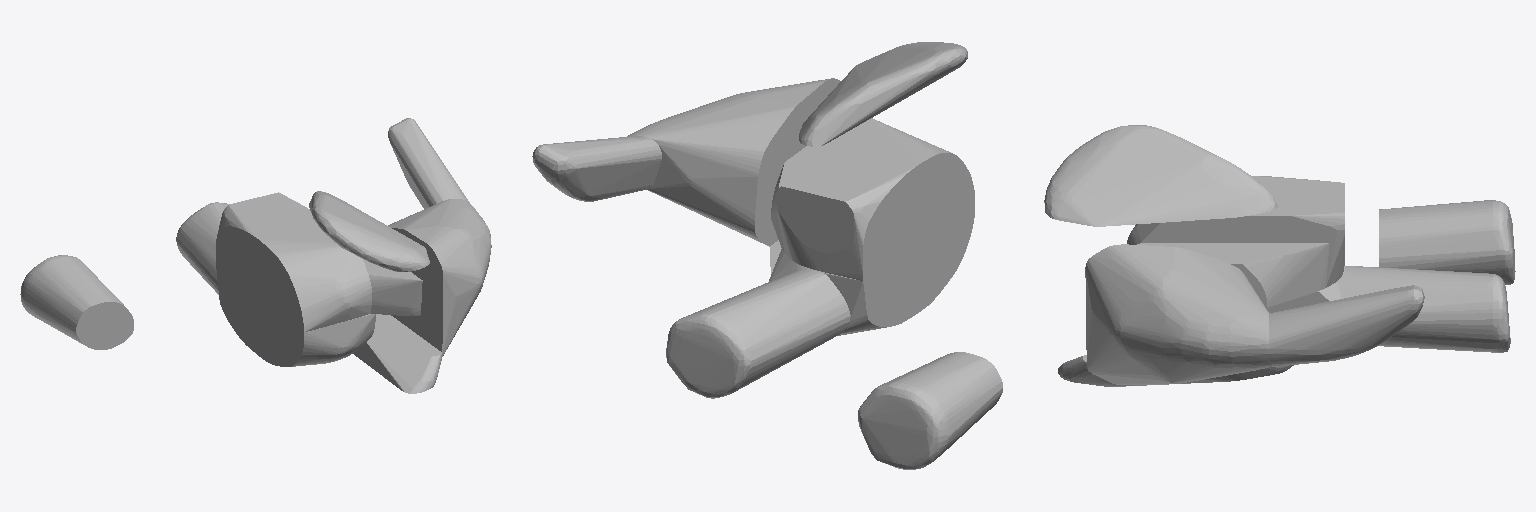
The robot description file, URDF, robot "root":
<robot name="root">
  <link name="link_coacd_convex_piece_0">
    <inertial>
      <origin xyz="0 0 0" rpy="0 0 0"/>
      <inertia ixx="3.65E-10" ixy="3.26E-10" ixz="-1.08E-10" iyy="3.40E-10" iyz="1.06E-10" izz="6.25E-10"/>
    </inertial>
    <visual>
      <origin xyz="0 0 0" rpy="0 0 0"/>
      <geometry>
        <mesh filename="coacd_convex_piece_0.obj" scale="1.0000E+00 1.0000E+00 1.0000E+00"/>
      </geometry>
      <material name="">
        <color rgba="7.50E-01 7.50E-01 7.50E-01 1"/>
      </material>
    </visual>
    <collision>
      <origin xyz="0 0 0" rpy="0 0 0"/>
      <geometry>
        <mesh filename="coacd_convex_piece_0.obj" scale="1.0000E+00 1.0000E+00 1.0000E+00"/>
      </geometry>
    </collision>
  </link>
  <link name="link_coacd_convex_piece_1">
    <inertial>
      <origin xyz="0 0 0" rpy="0 0 0"/>
      <inertia ixx="3.67E-11" ixy="-7.08E-11" ixz="-6.63E-11" iyy="3.42E-10" iyz="-1.78E-11" izz="3.49E-10"/>
    </inertial>
    <visual>
      <origin xyz="0 0 0" rpy="0 0 0"/>
      <geometry>
        <mesh filename="coacd_convex_piece_1.obj" scale="1.0000E+00 1.0000E+00 1.0000E+00"/>
      </geometry>
      <material name="">
        <color rgba="7.50E-01 7.50E-01 7.50E-01 1"/>
      </material>
    </visual>
    <collision>
      <origin xyz="0 0 0" rpy="0 0 0"/>
      <geometry>
        <mesh filename="coacd_convex_piece_1.obj" scale="1.0000E+00 1.0000E+00 1.0000E+00"/>
      </geometry>
    </collision>
  </link>
  <joint name="link_coacd_convex_piece_1_joint" type="fixed">
    <origin xyz="0 0 0" rpy="0 0 0"/>
    <parent link="link_coacd_convex_piece_0"/>
    <child link="link_coacd_convex_piece_1"/>
  </joint>
  <link name="link_coacd_convex_piece_2">
    <inertial>
      <origin xyz="0 0 0" rpy="0 0 0"/>
      <inertia ixx="3.23E-10" ixy="5.05E-10" ixz="-8.80E-11" iyy="9.98E-10" iyz="3.32E-11" izz="1.25E-09"/>
    </inertial>
    <visual>
      <origin xyz="0 0 0" rpy="0 0 0"/>
      <geometry>
        <mesh filename="coacd_convex_piece_2.obj" scale="1.0000E+00 1.0000E+00 1.0000E+00"/>
      </geometry>
      <material name="">
        <color rgba="7.50E-01 7.50E-01 7.50E-01 1"/>
      </material>
    </visual>
    <collision>
      <origin xyz="0 0 0" rpy="0 0 0"/>
      <geometry>
        <mesh filename="coacd_convex_piece_2.obj" scale="1.0000E+00 1.0000E+00 1.0000E+00"/>
      </geometry>
    </collision>
  </link>
  <joint name="link_coacd_convex_piece_2_joint" type="fixed">
    <origin xyz="0 0 0" rpy="0 0 0"/>
    <parent link="link_coacd_convex_piece_1"/>
    <child link="link_coacd_convex_piece_2"/>
  </joint>
  <link name="link_coacd_convex_piece_3">
    <inertial>
      <origin xyz="0 0 0" rpy="0 0 0"/>
      <inertia ixx="8.30E-10" ixy="-4.11E-10" ixz="-7.84E-11" iyy="3.28E-09" iyz="-2.47E-11" izz="3.49E-09"/>
    </inertial>
    <visual>
      <origin xyz="0 0 0" rpy="0 0 0"/>
      <geometry>
        <mesh filename="coacd_convex_piece_3.obj" scale="1.0000E+00 1.0000E+00 1.0000E+00"/>
      </geometry>
      <material name="">
        <color rgba="7.50E-01 7.50E-01 7.50E-01 1"/>
      </material>
    </visual>
    <collision>
      <origin xyz="0 0 0" rpy="0 0 0"/>
      <geometry>
        <mesh filename="coacd_convex_piece_3.obj" scale="1.0000E+00 1.0000E+00 1.0000E+00"/>
      </geometry>
    </collision>
  </link>
  <joint name="link_coacd_convex_piece_3_joint" type="fixed">
    <origin xyz="0 0 0" rpy="0 0 0"/>
    <parent link="link_coacd_convex_piece_2"/>
    <child link="link_coacd_convex_piece_3"/>
  </joint>
  <link name="link_coacd_convex_piece_4">
    <inertial>
      <origin xyz="0 0 0" rpy="0 0 0"/>
      <inertia ixx="1.81E-11" ixy="3.67E-11" ixz="1.70E-11" iyy="8.21E-11" iyz="-7.58E-12" izz="9.17E-11"/>
    </inertial>
    <visual>
      <origin xyz="0 0 0" rpy="0 0 0"/>
      <geometry>
        <mesh filename="coacd_convex_piece_4.obj" scale="1.0000E+00 1.0000E+00 1.0000E+00"/>
      </geometry>
      <material name="">
        <color rgba="7.50E-01 7.50E-01 7.50E-01 1"/>
      </material>
    </visual>
    <collision>
      <origin xyz="0 0 0" rpy="0 0 0"/>
      <geometry>
        <mesh filename="coacd_convex_piece_4.obj" scale="1.0000E+00 1.0000E+00 1.0000E+00"/>
      </geometry>
    </collision>
  </link>
  <joint name="link_coacd_convex_piece_4_joint" type="fixed">
    <origin xyz="0 0 0" rpy="0 0 0"/>
    <parent link="link_coacd_convex_piece_3"/>
    <child link="link_coacd_convex_piece_4"/>
  </joint>
  <link name="link_coacd_convex_piece_5">
    <inertial>
      <origin xyz="0 0 0" rpy="0 0 0"/>
      <inertia ixx="3.50E-10" ixy="-6.56E-11" ixz="1.58E-11" iyy="2.55E-11" iyz="7.04E-11" izz="3.32E-10"/>
    </inertial>
    <visual>
      <origin xyz="0 0 0" rpy="0 0 0"/>
      <geometry>
        <mesh filename="coacd_convex_piece_5.obj" scale="1.0000E+00 1.0000E+00 1.0000E+00"/>
      </geometry>
      <material name="">
        <color rgba="7.50E-01 7.50E-01 7.50E-01 1"/>
      </material>
    </visual>
    <collision>
      <origin xyz="0 0 0" rpy="0 0 0"/>
      <geometry>
        <mesh filename="coacd_convex_piece_5.obj" scale="1.0000E+00 1.0000E+00 1.0000E+00"/>
      </geometry>
    </collision>
  </link>
  <joint name="link_coacd_convex_piece_5_joint" type="fixed">
    <origin xyz="0 0 0" rpy="0 0 0"/>
    <parent link="link_coacd_convex_piece_4"/>
    <child link="link_coacd_convex_piece_5"/>
  </joint>
  <link name="link_coacd_convex_piece_6">
    <inertial>
      <origin xyz="0 0 0" rpy="0 0 0"/>
      <inertia ixx="2.27E-11" ixy="3.58E-11" ixz="-1.88E-11" iyy="6.84E-11" iyz="9.61E-12" izz="7.77E-11"/>
    </inertial>
    <visual>
      <origin xyz="0 0 0" rpy="0 0 0"/>
      <geometry>
        <mesh filename="coacd_convex_piece_6.obj" scale="1.0000E+00 1.0000E+00 1.0000E+00"/>
      </geometry>
      <material name="">
        <color rgba="7.50E-01 7.50E-01 7.50E-01 1"/>
      </material>
    </visual>
    <collision>
      <origin xyz="0 0 0" rpy="0 0 0"/>
      <geometry>
        <mesh filename="coacd_convex_piece_6.obj" scale="1.0000E+00 1.0000E+00 1.0000E+00"/>
      </geometry>
    </collision>
  </link>
  <joint name="link_coacd_convex_piece_6_joint" type="fixed">
    <origin xyz="0 0 0" rpy="0 0 0"/>
    <parent link="link_coacd_convex_piece_5"/>
    <child link="link_coacd_convex_piece_6"/>
  </joint>
  <link name="link_coacd_convex_piece_7">
    <inertial>
      <origin xyz="0 0 0" rpy="0 0 0"/>
      <inertia ixx="3.79E-10" ixy="-1.22E-11" ixz="-1.49E-11" iyy="5.87E-11" iyz="-1.42E-10" izz="2.94E-10"/>
    </inertial>
    <visual>
      <origin xyz="0 0 0" rpy="0 0 0"/>
      <geometry>
        <mesh filename="coacd_convex_piece_7.obj" scale="1.0000E+00 1.0000E+00 1.0000E+00"/>
      </geometry>
      <material name="">
        <color rgba="7.50E-01 7.50E-01 7.50E-01 1"/>
      </material>
    </visual>
    <collision>
      <origin xyz="0 0 0" rpy="0 0 0"/>
      <geometry>
        <mesh filename="coacd_convex_piece_7.obj" scale="1.0000E+00 1.0000E+00 1.0000E+00"/>
      </geometry>
    </collision>
  </link>
  <joint name="link_coacd_convex_piece_7_joint" type="fixed">
    <origin xyz="0 0 0" rpy="0 0 0"/>
    <parent link="link_coacd_convex_piece_6"/>
    <child link="link_coacd_convex_piece_7"/>
  </joint>
  <link name="link_coacd_convex_piece_8">
    <inertial>
      <origin xyz="0 0 0" rpy="0 0 0"/>
      <inertia ixx="2.03E-10" ixy="2.41E-10" ixz="6.81E-11" iyy="3.09E-10" iyz="-5.50E-11" izz="4.77E-10"/>
    </inertial>
    <visual>
      <origin xyz="0 0 0" rpy="0 0 0"/>
      <geometry>
        <mesh filename="coacd_convex_piece_8.obj" scale="1.0000E+00 1.0000E+00 1.0000E+00"/>
      </geometry>
      <material name="">
        <color rgba="7.50E-01 7.50E-01 7.50E-01 1"/>
      </material>
    </visual>
    <collision>
      <origin xyz="0 0 0" rpy="0 0 0"/>
      <geometry>
        <mesh filename="coacd_convex_piece_8.obj" scale="1.0000E+00 1.0000E+00 1.0000E+00"/>
      </geometry>
    </collision>
  </link>
  <joint name="link_coacd_convex_piece_8_joint" type="fixed">
    <origin xyz="0 0 0" rpy="0 0 0"/>
    <parent link="link_coacd_convex_piece_7"/>
    <child link="link_coacd_convex_piece_8"/>
  </joint>
  <link name="link_coacd_convex_piece_9">
    <inertial>
      <origin xyz="0 0 0" rpy="0 0 0"/>
      <inertia ixx="6.00E-11" ixy="9.87E-11" ixz="3.61E-11" iyy="1.75E-10" iyz="-2.06E-11" izz="2.18E-10"/>
    </inertial>
    <visual>
      <origin xyz="0 0 0" rpy="0 0 0"/>
      <geometry>
        <mesh filename="coacd_convex_piece_9.obj" scale="1.0000E+00 1.0000E+00 1.0000E+00"/>
      </geometry>
      <material name="">
        <color rgba="7.50E-01 7.50E-01 7.50E-01 1"/>
      </material>
    </visual>
    <collision>
      <origin xyz="0 0 0" rpy="0 0 0"/>
      <geometry>
        <mesh filename="coacd_convex_piece_9.obj" scale="1.0000E+00 1.0000E+00 1.0000E+00"/>
      </geometry>
    </collision>
  </link>
  <joint name="link_coacd_convex_piece_9_joint" type="fixed">
    <origin xyz="0 0 0" rpy="0 0 0"/>
    <parent link="link_coacd_convex_piece_8"/>
    <child link="link_coacd_convex_piece_9"/>
  </joint>
  <link name="link_coacd_convex_piece_10">
    <inertial>
      <origin xyz="0 0 0" rpy="0 0 0"/>
      <inertia ixx="2.38E-10" ixy="7.43E-11" ixz="5.41E-11" iyy="1.24E-10" iyz="-1.09E-10" izz="1.67E-10"/>
    </inertial>
    <visual>
      <origin xyz="0 0 0" rpy="0 0 0"/>
      <geometry>
        <mesh filename="coacd_convex_piece_10.obj" scale="1.0000E+00 1.0000E+00 1.0000E+00"/>
      </geometry>
      <material name="">
        <color rgba="7.50E-01 7.50E-01 7.50E-01 1"/>
      </material>
    </visual>
    <collision>
      <origin xyz="0 0 0" rpy="0 0 0"/>
      <geometry>
        <mesh filename="coacd_convex_piece_10.obj" scale="1.0000E+00 1.0000E+00 1.0000E+00"/>
      </geometry>
    </collision>
  </link>
  <joint name="link_coacd_convex_piece_10_joint" type="fixed">
    <origin xyz="0 0 0" rpy="0 0 0"/>
    <parent link="link_coacd_convex_piece_9"/>
    <child link="link_coacd_convex_piece_10"/>
  </joint>
  <link name="link_coacd_convex_piece_11">
    <inertial>
      <origin xyz="0 0 0" rpy="0 0 0"/>
      <inertia ixx="2.44E-10" ixy="5.36E-11" ixz="-3.96E-11" iyy="1.08E-10" iyz="1.12E-10" izz="1.55E-10"/>
    </inertial>
    <visual>
      <origin xyz="0 0 0" rpy="0 0 0"/>
      <geometry>
        <mesh filename="coacd_convex_piece_11.obj" scale="1.0000E+00 1.0000E+00 1.0000E+00"/>
      </geometry>
      <material name="">
        <color rgba="7.50E-01 7.50E-01 7.50E-01 1"/>
      </material>
    </visual>
    <collision>
      <origin xyz="0 0 0" rpy="0 0 0"/>
      <geometry>
        <mesh filename="coacd_convex_piece_11.obj" scale="1.0000E+00 1.0000E+00 1.0000E+00"/>
      </geometry>
    </collision>
  </link>
  <joint name="link_coacd_convex_piece_11_joint" type="fixed">
    <origin xyz="0 0 0" rpy="0 0 0"/>
    <parent link="link_coacd_convex_piece_10"/>
    <child link="link_coacd_convex_piece_11"/>
  </joint>
  <link name="link_coacd_convex_piece_12">
    <inertial>
      <origin xyz="0 0 0" rpy="0 0 0"/>
      <inertia ixx="1.55E-10" ixy="3.95E-11" ixz="-1.76E-11" iyy="3.47E-11" iyz="3.05E-11" izz="8.78E-11"/>
    </inertial>
    <visual>
      <origin xyz="0 0 0" rpy="0 0 0"/>
      <geometry>
        <mesh filename="coacd_convex_piece_12.obj" scale="1.0000E+00 1.0000E+00 1.0000E+00"/>
      </geometry>
      <material name="">
        <color rgba="7.50E-01 7.50E-01 7.50E-01 1"/>
      </material>
    </visual>
    <collision>
      <origin xyz="0 0 0" rpy="0 0 0"/>
      <geometry>
        <mesh filename="coacd_convex_piece_12.obj" scale="1.0000E+00 1.0000E+00 1.0000E+00"/>
      </geometry>
    </collision>
  </link>
  <joint name="link_coacd_convex_piece_12_joint" type="fixed">
    <origin xyz="0 0 0" rpy="0 0 0"/>
    <parent link="link_coacd_convex_piece_11"/>
    <child link="link_coacd_convex_piece_12"/>
  </joint>
  <link name="link_coacd_convex_piece_13">
    <inertial>
      <origin xyz="0 0 0" rpy="0 0 0"/>
      <inertia ixx="1.42E-10" ixy="4.12E-11" ixz="1.24E-11" iyy="2.90E-11" iyz="-3.13E-11" izz="9.14E-11"/>
    </inertial>
    <visual>
      <origin xyz="0 0 0" rpy="0 0 0"/>
      <geometry>
        <mesh filename="coacd_convex_piece_13.obj" scale="1.0000E+00 1.0000E+00 1.0000E+00"/>
      </geometry>
      <material name="">
        <color rgba="7.50E-01 7.50E-01 7.50E-01 1"/>
      </material>
    </visual>
    <collision>
      <origin xyz="0 0 0" rpy="0 0 0"/>
      <geometry>
        <mesh filename="coacd_convex_piece_13.obj" scale="1.0000E+00 1.0000E+00 1.0000E+00"/>
      </geometry>
    </collision>
  </link>
  <joint name="link_coacd_convex_piece_13_joint" type="fixed">
    <origin xyz="0 0 0" rpy="0 0 0"/>
    <parent link="link_coacd_convex_piece_12"/>
    <child link="link_coacd_convex_piece_13"/>
  </joint>
  <link name="link_coacd_convex_piece_14">
    <inertial>
      <origin xyz="0 0 0" rpy="0 0 0"/>
      <inertia ixx="1.83E-11" ixy="4.80E-12" ixz="-8.86E-12" iyy="1.84E-11" iyz="2.26E-12" izz="5.48E-12"/>
    </inertial>
    <visual>
      <origin xyz="0 0 0" rpy="0 0 0"/>
      <geometry>
        <mesh filename="coacd_convex_piece_14.obj" scale="1.0000E+00 1.0000E+00 1.0000E+00"/>
      </geometry>
      <material name="">
        <color rgba="7.50E-01 7.50E-01 7.50E-01 1"/>
      </material>
    </visual>
    <collision>
      <origin xyz="0 0 0" rpy="0 0 0"/>
      <geometry>
        <mesh filename="coacd_convex_piece_14.obj" scale="1.0000E+00 1.0000E+00 1.0000E+00"/>
      </geometry>
    </collision>
  </link>
  <joint name="link_coacd_convex_piece_14_joint" type="fixed">
    <origin xyz="0 0 0" rpy="0 0 0"/>
    <parent link="link_coacd_convex_piece_13"/>
    <child link="link_coacd_convex_piece_14"/>
  </joint>
  <link name="link_coacd_convex_piece_15">
    <inertial>
      <origin xyz="0 0 0" rpy="0 0 0"/>
      <inertia ixx="5.97E-11" ixy="2.63E-11" ixz="-1.39E-11" iyy="2.51E-11" iyz="2.47E-11" izz="5.69E-11"/>
    </inertial>
    <visual>
      <origin xyz="0 0 0" rpy="0 0 0"/>
      <geometry>
        <mesh filename="coacd_convex_piece_15.obj" scale="1.0000E+00 1.0000E+00 1.0000E+00"/>
      </geometry>
      <material name="">
        <color rgba="7.50E-01 7.50E-01 7.50E-01 1"/>
      </material>
    </visual>
    <collision>
      <origin xyz="0 0 0" rpy="0 0 0"/>
      <geometry>
        <mesh filename="coacd_convex_piece_15.obj" scale="1.0000E+00 1.0000E+00 1.0000E+00"/>
      </geometry>
    </collision>
  </link>
  <joint name="link_coacd_convex_piece_15_joint" type="fixed">
    <origin xyz="0 0 0" rpy="0 0 0"/>
    <parent link="link_coacd_convex_piece_14"/>
    <child link="link_coacd_convex_piece_15"/>
  </joint>
  <link name="link_coacd_convex_piece_16">
    <inertial>
      <origin xyz="0 0 0" rpy="0 0 0"/>
      <inertia ixx="9.05E-11" ixy="8.76E-11" ixz="2.09E-11" iyy="9.18E-11" iyz="-1.75E-11" izz="1.69E-10"/>
    </inertial>
    <visual>
      <origin xyz="0 0 0" rpy="0 0 0"/>
      <geometry>
        <mesh filename="coacd_convex_piece_16.obj" scale="1.0000E+00 1.0000E+00 1.0000E+00"/>
      </geometry>
      <material name="">
        <color rgba="7.50E-01 7.50E-01 7.50E-01 1"/>
      </material>
    </visual>
    <collision>
      <origin xyz="0 0 0" rpy="0 0 0"/>
      <geometry>
        <mesh filename="coacd_convex_piece_16.obj" scale="1.0000E+00 1.0000E+00 1.0000E+00"/>
      </geometry>
    </collision>
  </link>
  <joint name="link_coacd_convex_piece_16_joint" type="fixed">
    <origin xyz="0 0 0" rpy="0 0 0"/>
    <parent link="link_coacd_convex_piece_15"/>
    <child link="link_coacd_convex_piece_16"/>
  </joint>
  <link name="link_coacd_convex_piece_17">
    <inertial>
      <origin xyz="0 0 0" rpy="0 0 0"/>
      <inertia ixx="8.32E-11" ixy="7.29E-11" ixz="-2.36E-11" iyy="7.34E-11" iyz="2.29E-11" izz="1.37E-10"/>
    </inertial>
    <visual>
      <origin xyz="0 0 0" rpy="0 0 0"/>
      <geometry>
        <mesh filename="coacd_convex_piece_17.obj" scale="1.0000E+00 1.0000E+00 1.0000E+00"/>
      </geometry>
      <material name="">
        <color rgba="7.50E-01 7.50E-01 7.50E-01 1"/>
      </material>
    </visual>
    <collision>
      <origin xyz="0 0 0" rpy="0 0 0"/>
      <geometry>
        <mesh filename="coacd_convex_piece_17.obj" scale="1.0000E+00 1.0000E+00 1.0000E+00"/>
      </geometry>
    </collision>
  </link>
  <joint name="link_coacd_convex_piece_17_joint" type="fixed">
    <origin xyz="0 0 0" rpy="0 0 0"/>
    <parent link="link_coacd_convex_piece_16"/>
    <child link="link_coacd_convex_piece_17"/>
  </joint>
  <link name="link_coacd_convex_piece_18">
    <inertial>
      <origin xyz="0 0 0" rpy="0 0 0"/>
      <inertia ixx="9.80E-11" ixy="6.46E-11" ixz="3.46E-11" iyy="7.10E-11" iyz="-3.70E-11" izz="1.24E-10"/>
    </inertial>
    <visual>
      <origin xyz="0 0 0" rpy="0 0 0"/>
      <geometry>
        <mesh filename="coacd_convex_piece_18.obj" scale="1.0000E+00 1.0000E+00 1.0000E+00"/>
      </geometry>
      <material name="">
        <color rgba="7.50E-01 7.50E-01 7.50E-01 1"/>
      </material>
    </visual>
    <collision>
      <origin xyz="0 0 0" rpy="0 0 0"/>
      <geometry>
        <mesh filename="coacd_convex_piece_18.obj" scale="1.0000E+00 1.0000E+00 1.0000E+00"/>
      </geometry>
    </collision>
  </link>
  <joint name="link_coacd_convex_piece_18_joint" type="fixed">
    <origin xyz="0 0 0" rpy="0 0 0"/>
    <parent link="link_coacd_convex_piece_17"/>
    <child link="link_coacd_convex_piece_18"/>
  </joint>
  <link name="link_coacd_convex_piece_19">
    <inertial>
      <origin xyz="0 0 0" rpy="0 0 0"/>
      <inertia ixx="6.10E-11" ixy="5.33E-11" ixz="-1.68E-11" iyy="4.81E-11" iyz="1.32E-11" izz="9.66E-11"/>
    </inertial>
    <visual>
      <origin xyz="0 0 0" rpy="0 0 0"/>
      <geometry>
        <mesh filename="coacd_convex_piece_19.obj" scale="1.0000E+00 1.0000E+00 1.0000E+00"/>
      </geometry>
      <material name="">
        <color rgba="7.50E-01 7.50E-01 7.50E-01 1"/>
      </material>
    </visual>
    <collision>
      <origin xyz="0 0 0" rpy="0 0 0"/>
      <geometry>
        <mesh filename="coacd_convex_piece_19.obj" scale="1.0000E+00 1.0000E+00 1.0000E+00"/>
      </geometry>
    </collision>
  </link>
  <joint name="link_coacd_convex_piece_19_joint" type="fixed">
    <origin xyz="0 0 0" rpy="0 0 0"/>
    <parent link="link_coacd_convex_piece_18"/>
    <child link="link_coacd_convex_piece_19"/>
  </joint>
  <link name="link_coacd_convex_piece_20">
    <inertial>
      <origin xyz="0 0 0" rpy="0 0 0"/>
      <inertia ixx="4.90E-11" ixy="3.07E-11" ixz="-2.18E-11" iyy="3.88E-11" iyz="1.98E-11" izz="5.43E-11"/>
    </inertial>
    <visual>
      <origin xyz="0 0 0" rpy="0 0 0"/>
      <geometry>
        <mesh filename="coacd_convex_piece_20.obj" scale="1.0000E+00 1.0000E+00 1.0000E+00"/>
      </geometry>
      <material name="">
        <color rgba="7.50E-01 7.50E-01 7.50E-01 1"/>
      </material>
    </visual>
    <collision>
      <origin xyz="0 0 0" rpy="0 0 0"/>
      <geometry>
        <mesh filename="coacd_convex_piece_20.obj" scale="1.0000E+00 1.0000E+00 1.0000E+00"/>
      </geometry>
    </collision>
  </link>
  <joint name="link_coacd_convex_piece_20_joint" type="fixed">
    <origin xyz="0 0 0" rpy="0 0 0"/>
    <parent link="link_coacd_convex_piece_19"/>
    <child link="link_coacd_convex_piece_20"/>
  </joint>
  <link name="link_coacd_convex_piece_21">
    <inertial>
      <origin xyz="0 0 0" rpy="0 0 0"/>
      <inertia ixx="1.61E-11" ixy="7.58E-12" ixz="-2.68E-12" iyy="4.97E-12" iyz="5.25E-12" izz="1.72E-11"/>
    </inertial>
    <visual>
      <origin xyz="0 0 0" rpy="0 0 0"/>
      <geometry>
        <mesh filename="coacd_convex_piece_21.obj" scale="1.0000E+00 1.0000E+00 1.0000E+00"/>
      </geometry>
      <material name="">
        <color rgba="7.50E-01 7.50E-01 7.50E-01 1"/>
      </material>
    </visual>
    <collision>
      <origin xyz="0 0 0" rpy="0 0 0"/>
      <geometry>
        <mesh filename="coacd_convex_piece_21.obj" scale="1.0000E+00 1.0000E+00 1.0000E+00"/>
      </geometry>
    </collision>
  </link>
  <joint name="link_coacd_convex_piece_21_joint" type="fixed">
    <origin xyz="0 0 0" rpy="0 0 0"/>
    <parent link="link_coacd_convex_piece_20"/>
    <child link="link_coacd_convex_piece_21"/>
  </joint>
</robot>

--- Facts derived from the render (not from the file) ---
Views: 3 orthographic renders of the robot side by side, from view 1: azimuth 30°, elevation 25°; view 2: azimuth 150°, elevation 25°; view 3: azimuth 270°, elevation 25°.
Model root with 22 links and 21 joints (21 fixed), rooted at link_coacd_convex_piece_0, posed all joints at 0.
Links seen in each view (by area): view 1: link_coacd_convex_piece_12, link_coacd_convex_piece_2, link_coacd_convex_piece_0, link_coacd_convex_piece_13, link_coacd_convex_piece_11, link_coacd_convex_piece_18, link_coacd_convex_piece_1, link_coacd_convex_piece_5, link_coacd_convex_piece_19; view 2: link_coacd_convex_piece_12, link_coacd_convex_piece_2, link_coacd_convex_piece_5, link_coacd_convex_piece_0, link_coacd_convex_piece_13, link_coacd_convex_piece_11, link_coacd_convex_piece_1, link_coacd_convex_piece_19; view 3: link_coacd_convex_piece_2, link_coacd_convex_piece_11, link_coacd_convex_piece_5, link_coacd_convex_piece_0, link_coacd_convex_piece_12, link_coacd_convex_piece_1, link_coacd_convex_piece_19, link_coacd_convex_piece_18, link_coacd_convex_piece_13.
Boxes of the visible links, x1,y1,x2,y2 form: link_coacd_convex_piece_12: [216, 192, 371, 332]; link_coacd_convex_piece_2: [388, 199, 491, 356]; link_coacd_convex_piece_0: [20, 255, 133, 349]; link_coacd_convex_piece_13: [216, 268, 375, 366]; link_coacd_convex_piece_11: [309, 191, 429, 271]; link_coacd_convex_piece_18: [353, 314, 441, 393]; link_coacd_convex_piece_1: [388, 118, 469, 208]; link_coacd_convex_piece_5: [176, 202, 228, 294]; link_coacd_convex_piece_19: [363, 259, 422, 315]; link_coacd_convex_piece_12: [775, 118, 974, 280]; link_coacd_convex_piece_2: [627, 78, 840, 246]; link_coacd_convex_piece_5: [666, 270, 850, 398]; link_coacd_convex_piece_0: [858, 352, 1002, 469]; link_coacd_convex_piece_13: [769, 200, 974, 335]; link_coacd_convex_piece_11: [799, 42, 967, 146]; link_coacd_convex_piece_1: [532, 136, 661, 201]; link_coacd_convex_piece_19: [771, 136, 839, 252]; link_coacd_convex_piece_2: [1085, 244, 1268, 384]; link_coacd_convex_piece_11: [1044, 125, 1277, 226]; link_coacd_convex_piece_5: [1345, 266, 1510, 352]; link_coacd_convex_piece_0: [1379, 200, 1515, 284]; link_coacd_convex_piece_12: [1127, 175, 1344, 287]; link_coacd_convex_piece_1: [1269, 285, 1424, 366]; link_coacd_convex_piece_19: [1137, 243, 1329, 308]; link_coacd_convex_piece_18: [1058, 355, 1293, 386]; link_coacd_convex_piece_13: [1267, 266, 1344, 312].
Size in the robot's own frame: 0.0578 by 0.0541 by 0.0285 metres.
Meshes: 22 distinct files referenced, 9 mesh visuals loaded (9 OBJ); not drawn: 13 (reference not matched to a file when rendering).